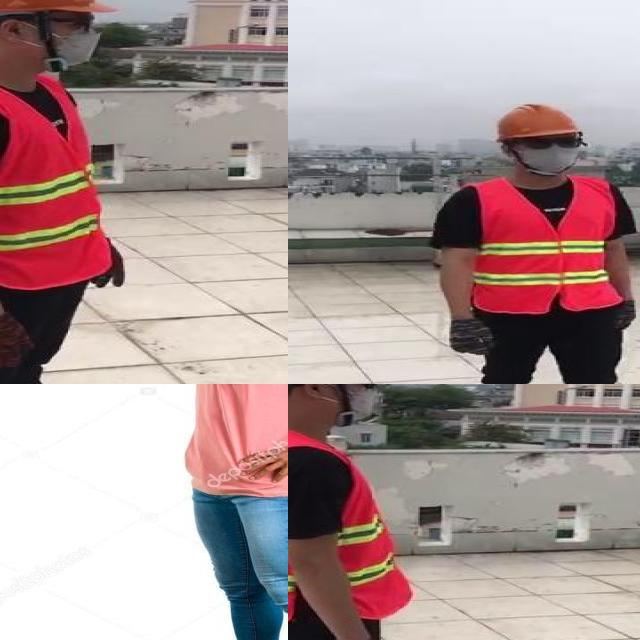face_mask: (24, 10, 108, 70), (311, 384, 386, 425), (514, 134, 586, 174)
glasses: (515, 131, 593, 154), (51, 8, 101, 34)
hand_glove: (0, 310, 32, 368), (451, 319, 490, 354), (618, 298, 638, 329)
hand_noglove: (236, 420, 288, 487)
head_helmet: (495, 100, 580, 141)
person: (424, 98, 640, 384), (0, 0, 133, 384), (288, 384, 447, 640), (166, 384, 288, 640)
vest: (288, 429, 409, 625), (0, 78, 110, 286), (464, 179, 618, 313)
